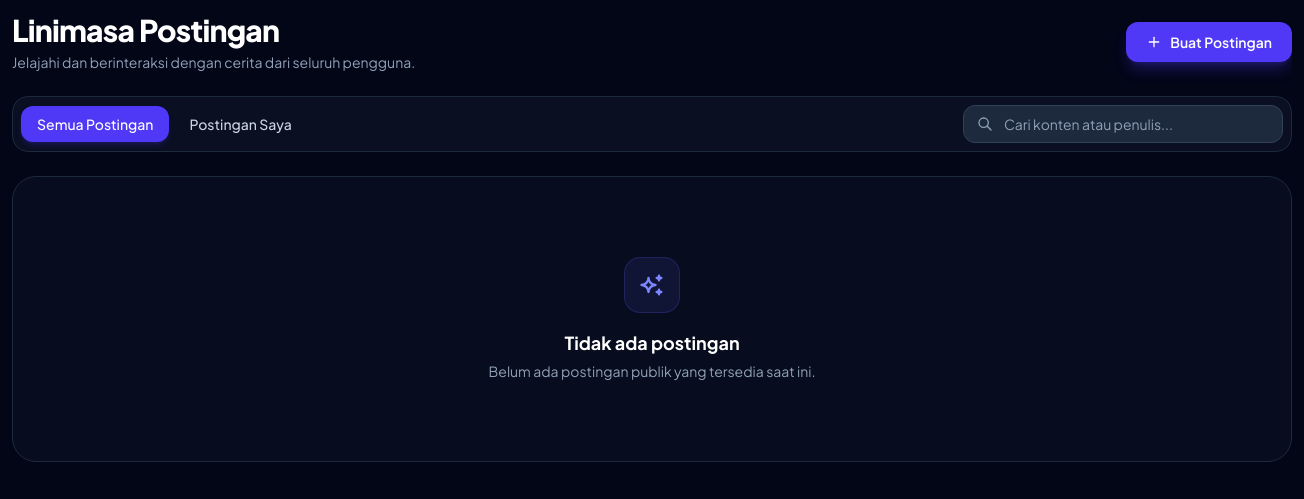
Scenario: HomePage › should render empty states correctly for search, all tab, and my_posts tab
Check: the text "Belum ada postingan publik yang tersedia saat ini." is shown, box [460,361,844,381]
Switch to my_posts tab
Click the button "Postingan Saya" at [241, 124], box [174,106,308,142]
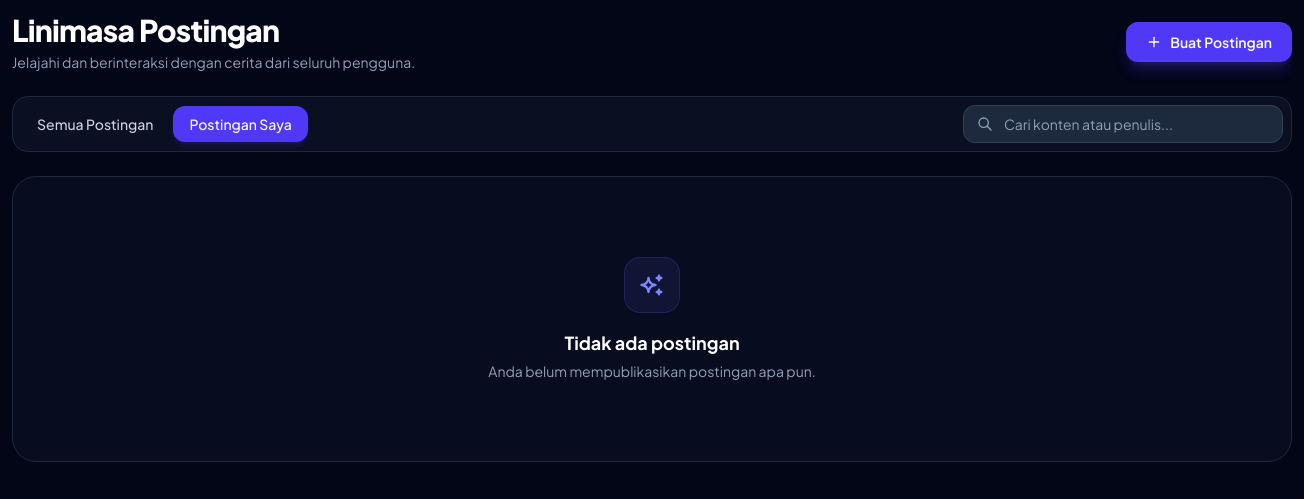
Check: the text "Anda belum mempublikasikan postingan apa pun." is shown, box [460,361,844,381]
Search term with no results
Type "xyznonexistent" into the search field at [1123, 124], box [963,105,1283,143]
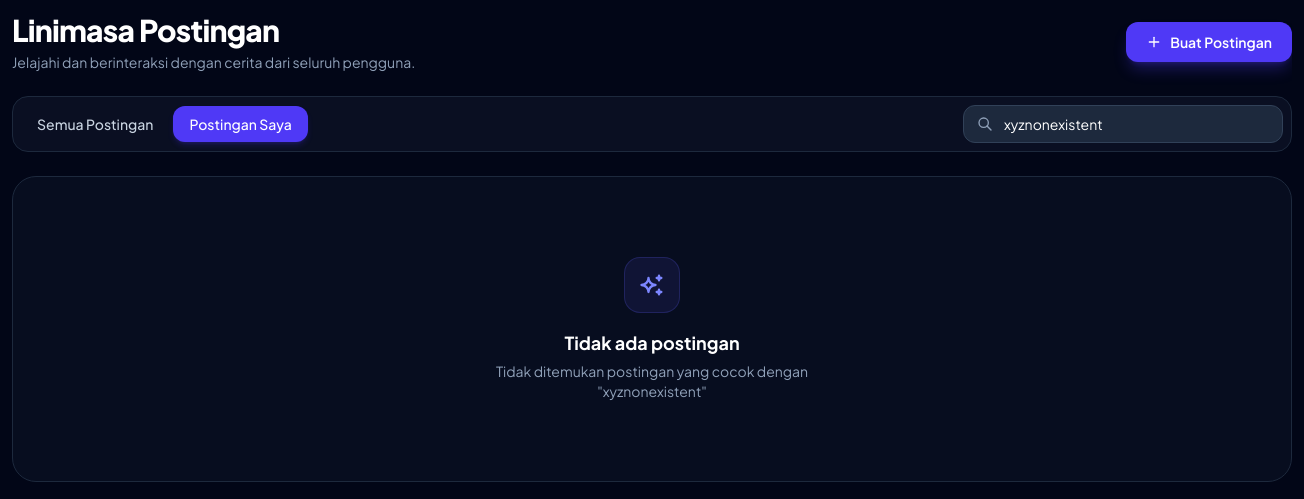
Check: the text "Tidak ditemukan postingan yang cocok dengan \"xyznonexistent\"" is shown, box [496,362,808,400]
